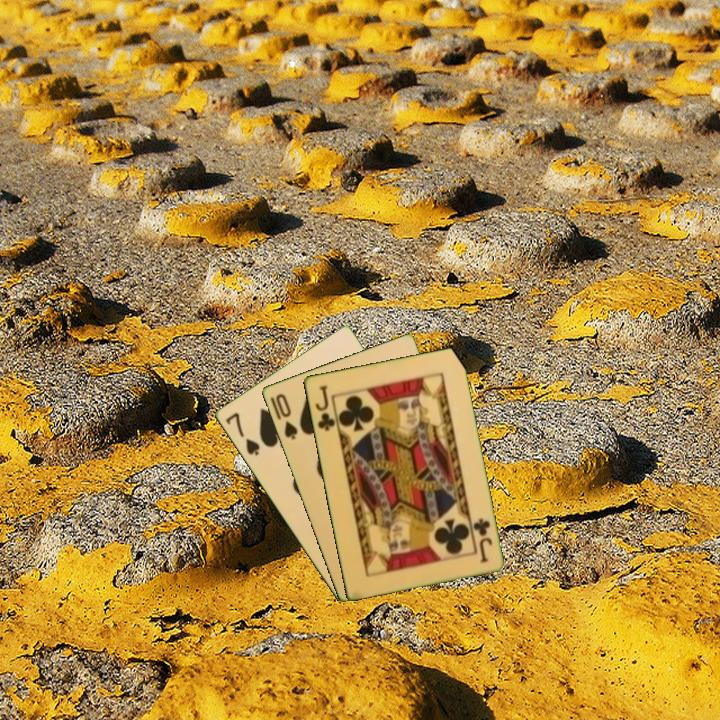10s: (272, 390, 300, 443)
7s: (222, 409, 262, 459)
Jc: (311, 381, 338, 433), (469, 514, 495, 566)
